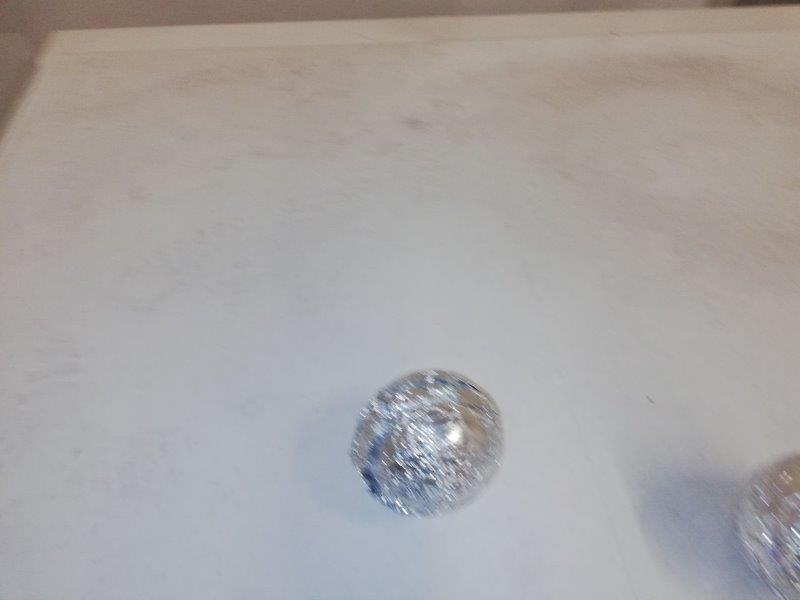bianca: (349, 369, 501, 514), (732, 449, 800, 595)
